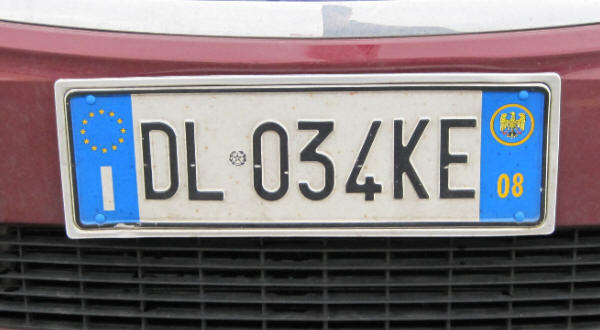license_plate: (65, 82, 551, 227)
